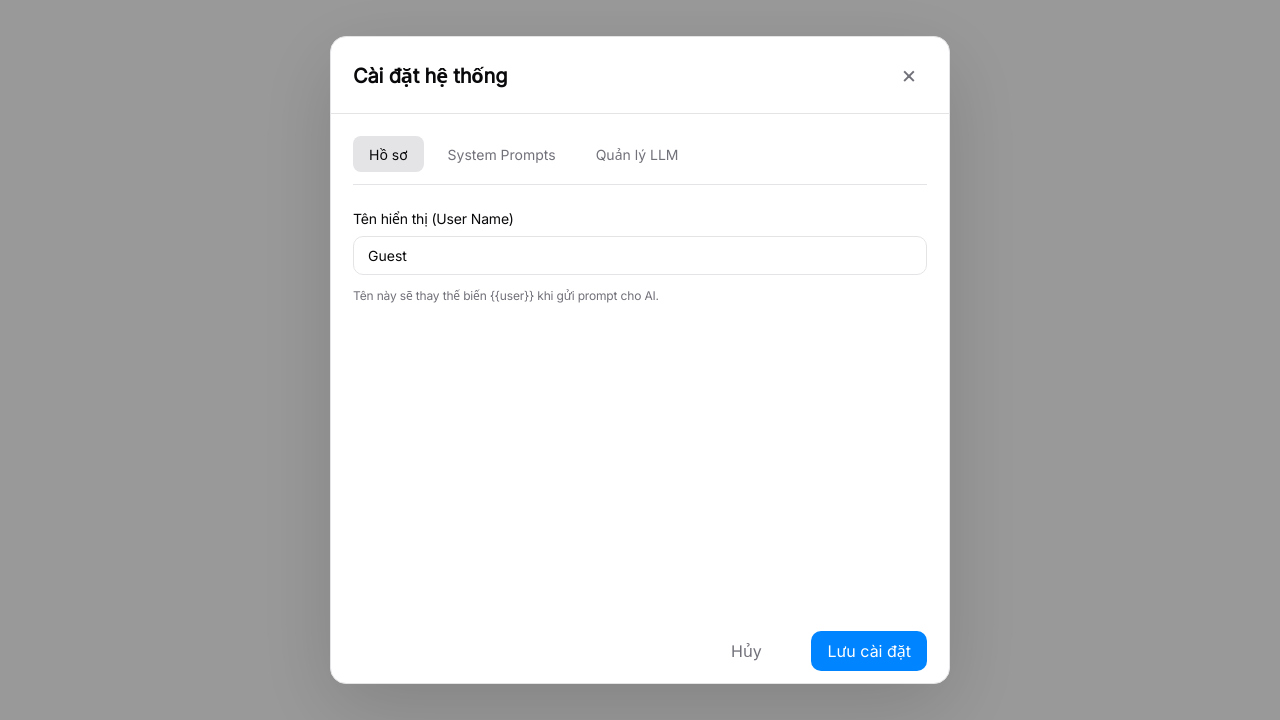
it: SettingsModal › switches to Quản lý LLM tab and shows model list
The image size is (1280, 720).
Click the button "Quản lý LLM".
click(637, 154)  # box [580,136,694,172]
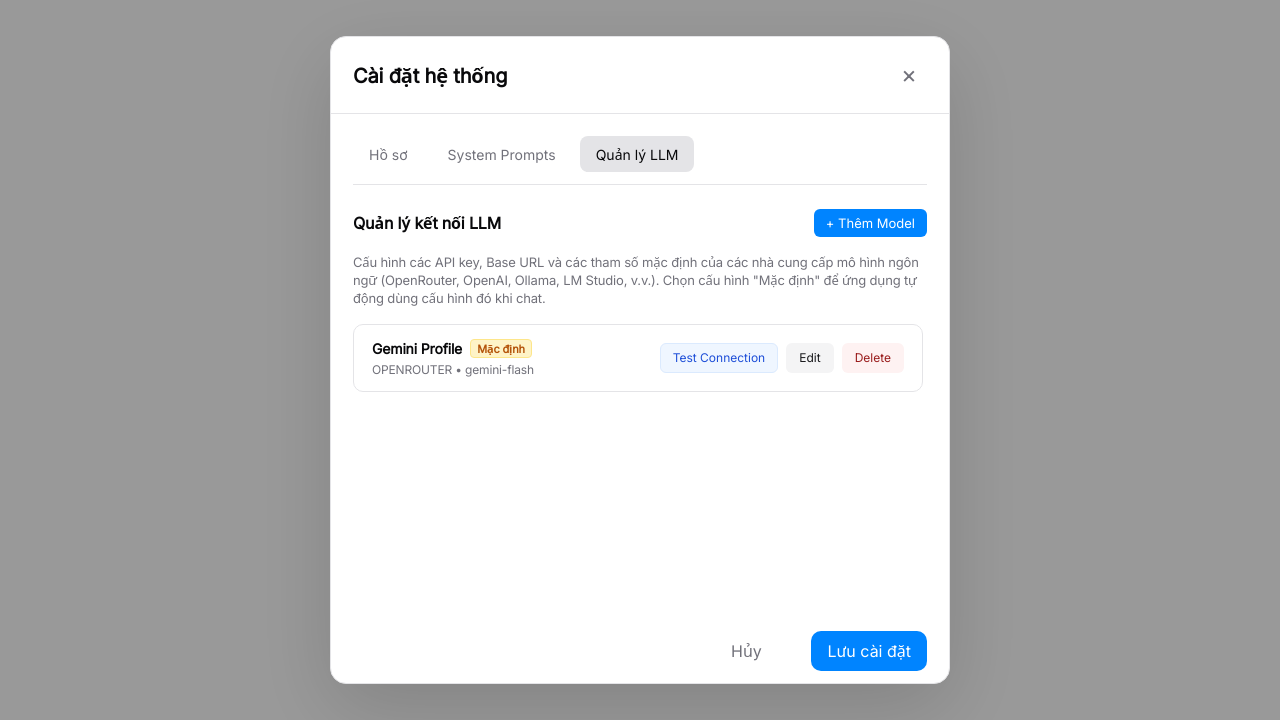
Expected: the text "Gemini Profile" is shown, [372,340,462,357]
